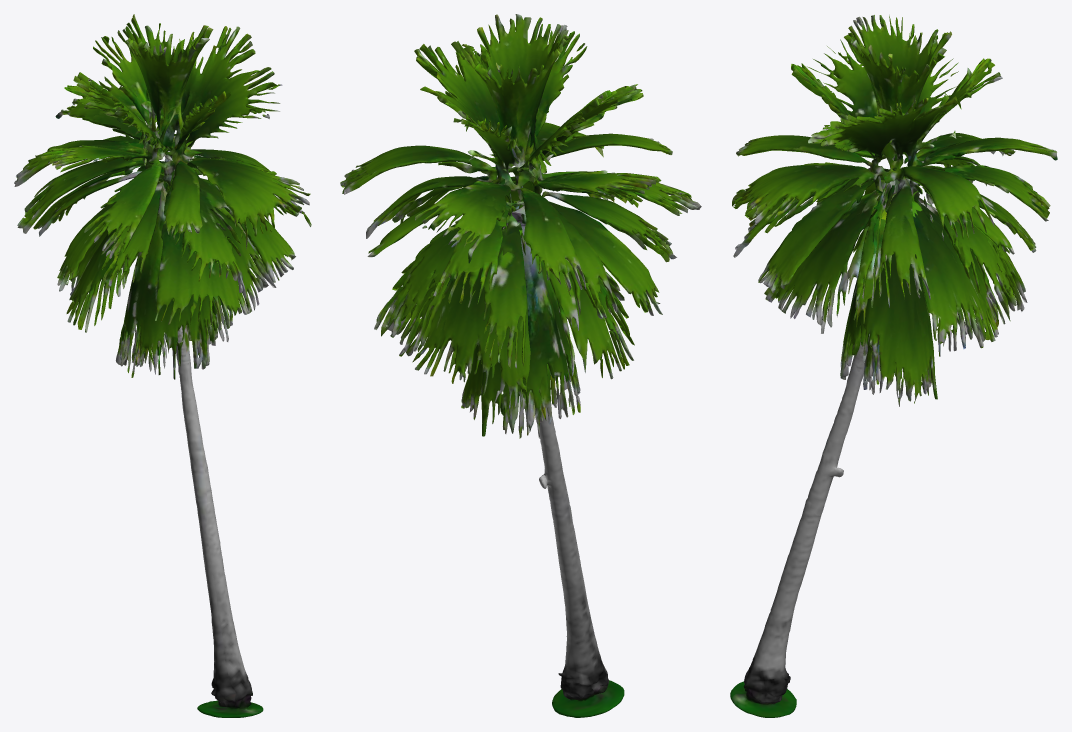
File: palmera.fbx
3 renders of one model, left to right at view 1: azimuth 30°, elevation 25°; view 2: azimuth 150°, elevation 25°; view 3: azimuth 270°, elevation 25°, orthographic. The views are drawn at different scales.
Parts seen in each view (by area): view 1: tripo_node_9be03be6; view 2: tripo_node_9be03be6; view 3: tripo_node_9be03be6.
Boxes of the visible parts, box(x1,y1,x2,y2) form: tripo_node_9be03be6: box(14, 14, 311, 717); tripo_node_9be03be6: box(340, 14, 701, 717); tripo_node_9be03be6: box(730, 15, 1057, 717).
Bounding box in the file's own units: 0.4001 × 1 × 0.4388.
1 material, 1 textured.
